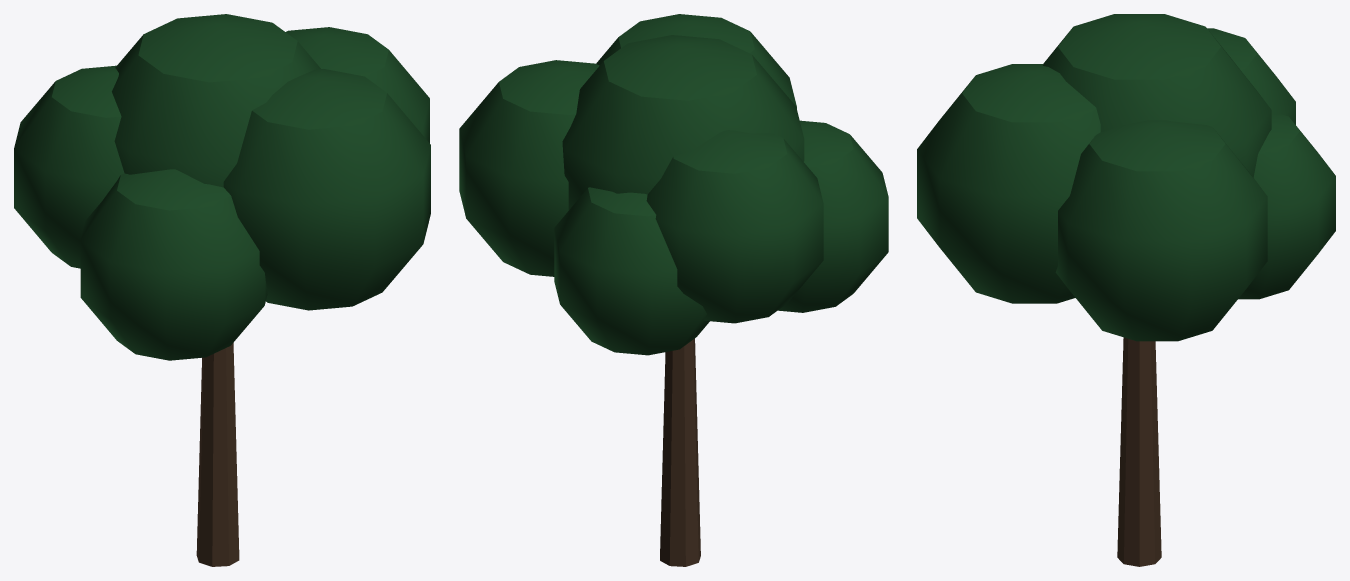
The model's file is landscape.tree.lime_medium.glb.
3 views of the same model, side by side, from view 1: azimuth 30°, elevation 25°; view 2: azimuth 150°, elevation 25°; view 3: azimuth 270°, elevation 25° (orthographic). The views are drawn at different scales.
Parts seen in each view (by area): view 1: main__foliage_dark, main__bark; view 2: main__foliage_dark, main__bark; view 3: main__foliage_dark, main__bark.
Part boxes in pixels (x1=…): main__foliage_dark: x1=14, y1=14, x2=430, y2=360; main__bark: x1=196, y1=343, x2=239, y2=566; main__foliage_dark: x1=459, y1=14, x2=888, y2=355; main__bark: x1=660, y1=338, x2=700, y2=566; main__foliage_dark: x1=917, y1=14, x2=1335, y2=341; main__bark: x1=1117, y1=337, x2=1161, y2=566.
Bounding box in the file's own units: 6.58 × 9.18 × 6.51.
